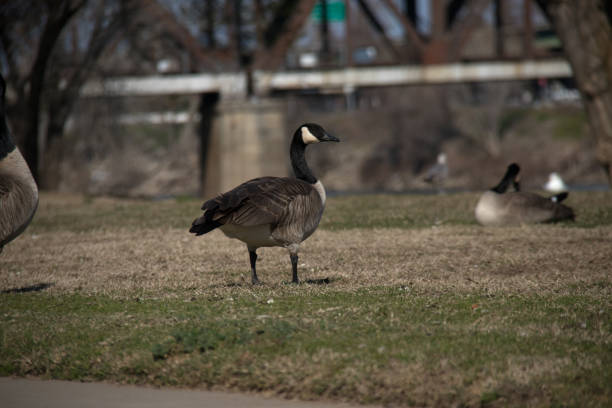goose: (181, 121, 342, 290), (472, 160, 578, 233)
